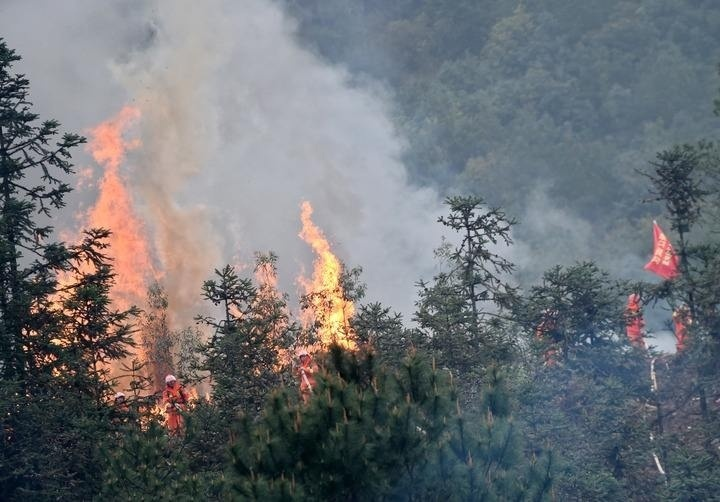fire: (37, 97, 367, 439)
